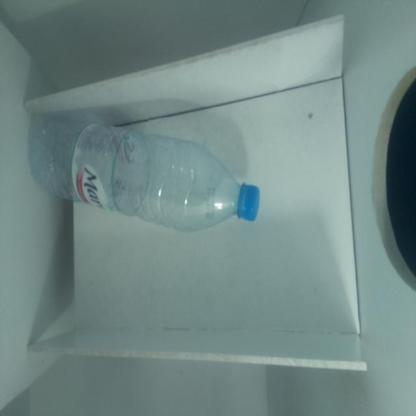Plastic Bottle: (30, 124, 259, 231)
